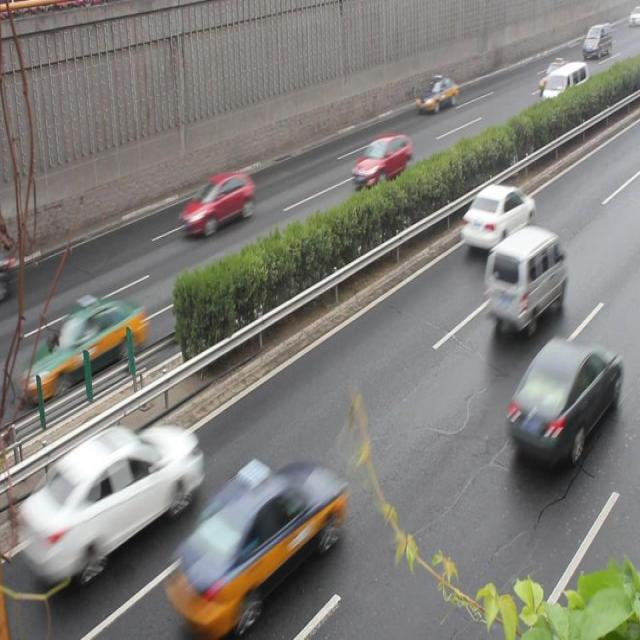car: (176, 464, 339, 605), (45, 424, 196, 574), (505, 336, 618, 465), (31, 301, 144, 394), (461, 182, 533, 251), (179, 172, 254, 237), (351, 134, 411, 188), (414, 75, 456, 115)
truck: (483, 225, 564, 326), (541, 61, 587, 112)
